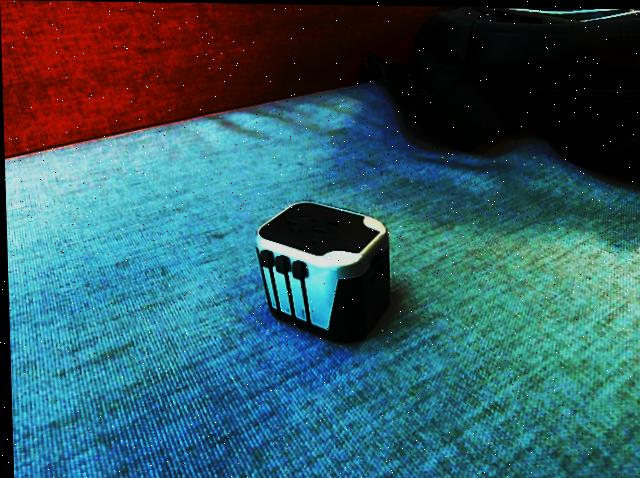adapter: (253, 200, 390, 343)
